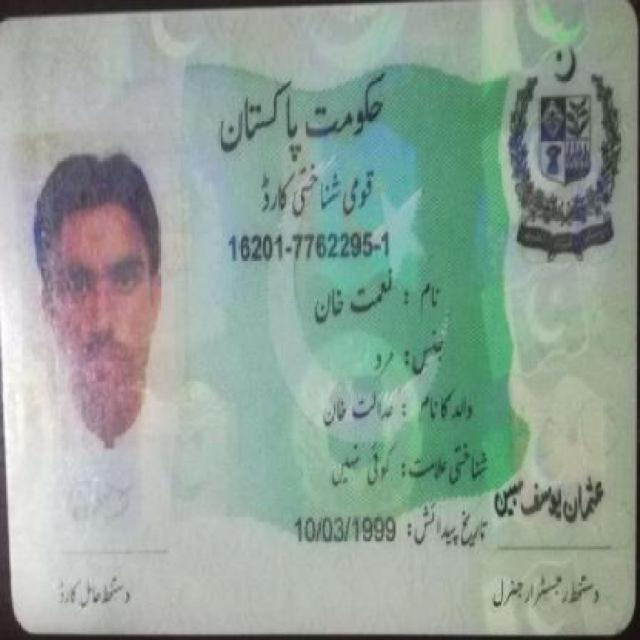Front: (6, 11, 626, 629)
